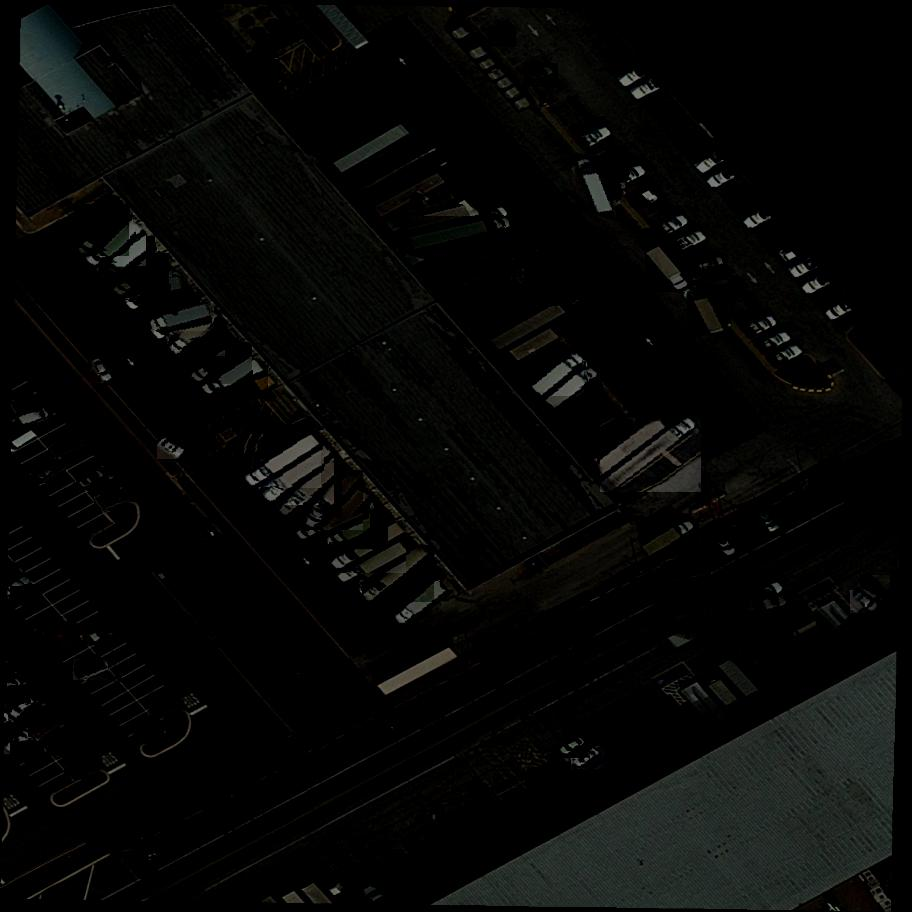large-vehicle: (598, 415, 701, 495), (662, 594, 793, 636), (261, 441, 335, 508), (400, 216, 515, 257), (362, 542, 435, 606), (244, 432, 323, 490), (301, 467, 364, 534), (332, 520, 408, 575), (276, 460, 344, 520), (339, 540, 412, 588), (525, 251, 591, 303), (295, 501, 371, 546), (395, 578, 455, 633), (570, 152, 617, 222), (86, 221, 147, 274), (75, 202, 130, 260), (188, 340, 253, 387), (169, 307, 225, 361), (100, 234, 157, 287), (543, 366, 602, 415), (113, 251, 170, 301), (200, 360, 268, 400), (531, 351, 586, 400), (329, 510, 388, 554), (646, 242, 694, 296), (644, 518, 700, 560), (688, 281, 728, 338), (151, 304, 214, 335), (124, 277, 187, 303), (489, 26, 518, 48)
small-vehicle: (278, 756, 316, 789), (754, 502, 787, 538), (46, 622, 79, 657), (858, 572, 892, 605), (225, 787, 260, 818), (48, 432, 85, 461), (710, 525, 739, 561), (84, 619, 120, 648), (31, 458, 66, 487), (9, 692, 40, 724), (693, 253, 728, 281), (524, 62, 559, 90), (557, 734, 592, 761), (737, 512, 767, 543), (76, 466, 109, 494), (572, 745, 605, 773), (377, 706, 405, 739), (149, 693, 182, 721), (37, 615, 70, 643), (73, 658, 108, 684), (28, 713, 60, 741), (133, 720, 164, 747), (528, 767, 572, 786), (90, 355, 116, 387), (138, 831, 163, 864), (5, 728, 34, 756), (850, 589, 881, 615), (16, 406, 52, 428), (95, 489, 129, 512), (157, 436, 188, 461), (65, 758, 100, 780), (10, 741, 44, 763), (48, 738, 82, 758), (19, 706, 47, 729), (2, 685, 31, 707), (11, 586, 42, 606), (12, 395, 40, 414)
